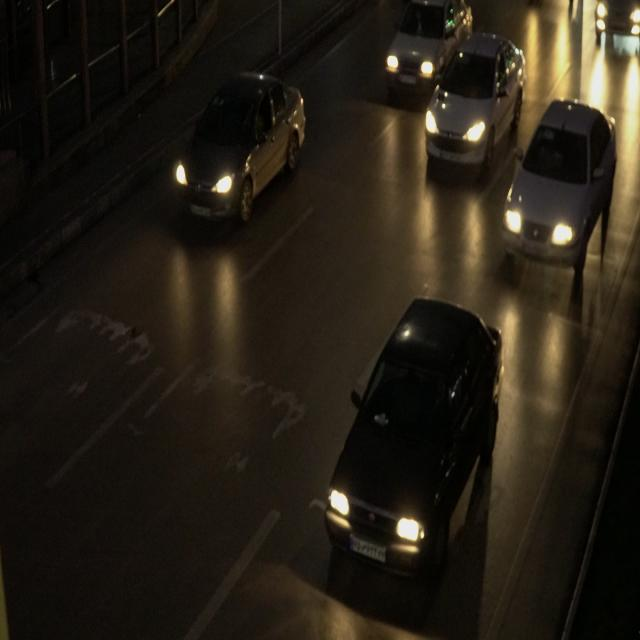car: (323, 298, 502, 586), (504, 101, 620, 275), (175, 70, 305, 222), (424, 35, 529, 176), (382, 0, 474, 92)
